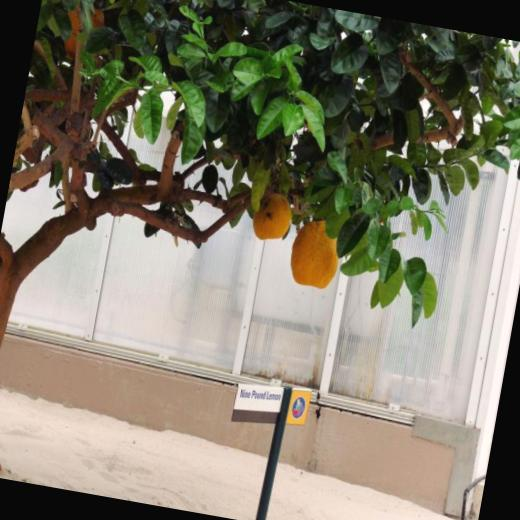Grape: (284, 217, 339, 285)
